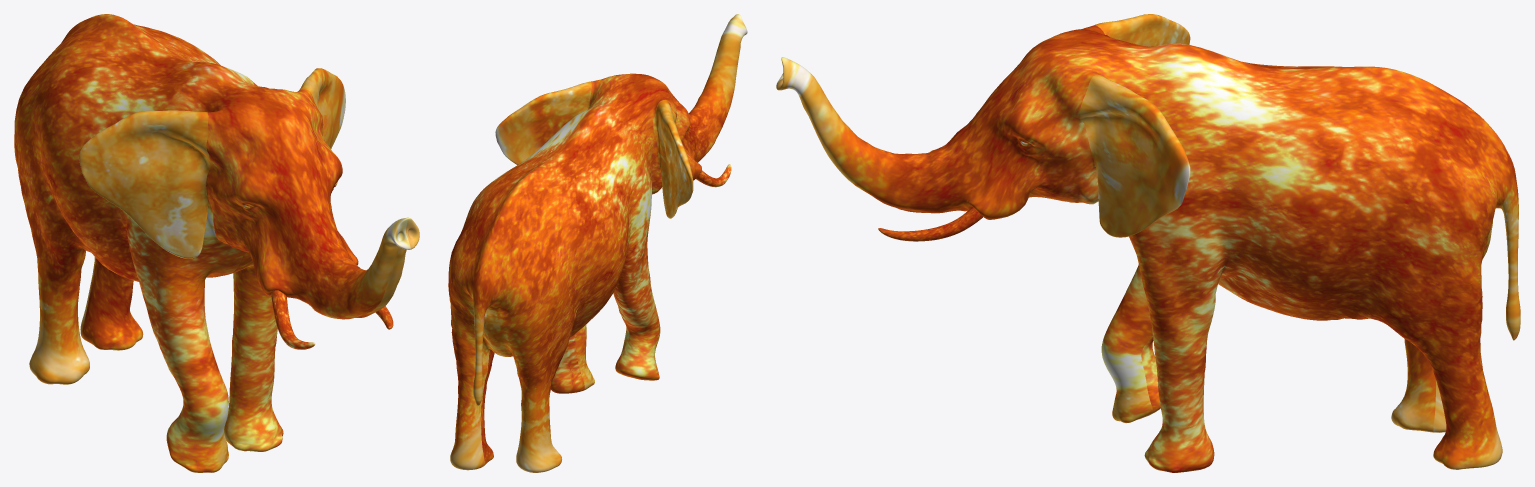
The model's file is elephant.obj.
The picture shows the model from 3 angles, left to right: view 1: azimuth 30°, elevation 25°; view 2: azimuth 150°, elevation 25°; view 3: azimuth 270°, elevation 25°; orthographic projection. The views are drawn at different scales.
Parts seen in each view (by area): view 1: obj1; view 2: obj1; view 3: obj1.
Boxes of the visible parts, x1,y1,x2,y2 form: obj1: (14, 14, 419, 472); obj1: (448, 14, 747, 472); obj1: (776, 14, 1520, 472).
Size of the model in its own units: 0.2142 by 0.2976 by 0.4983.
